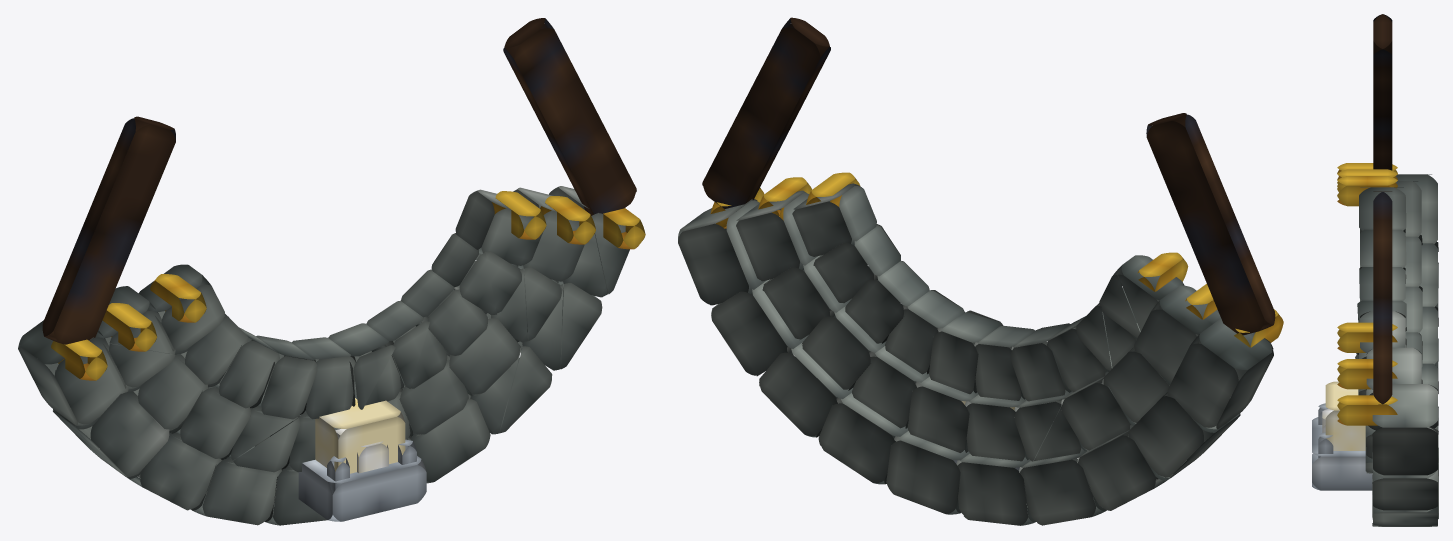
File: bulwark_gorget.obj
3 views of the same model, side by side, from view 1: azimuth 30°, elevation 25°; view 2: azimuth 150°, elevation 25°; view 3: azimuth 270°, elevation 25° (orthographic). The views are drawn at different scales.
Parts seen in each view (by area): view 1: lit, fire; view 2: lit; view 3: lit, fire.
Part boxes in pixels (box(x1,y1,x2,y2)): lit: box(18, 18, 645, 525); fire: box(315, 398, 405, 473); lit: box(678, 17, 1283, 525); lit: box(1312, 14, 1438, 526); fire: box(1322, 381, 1365, 450).
Size of the model in its own units: 0.9926 by 0.7159 by 0.2085.
